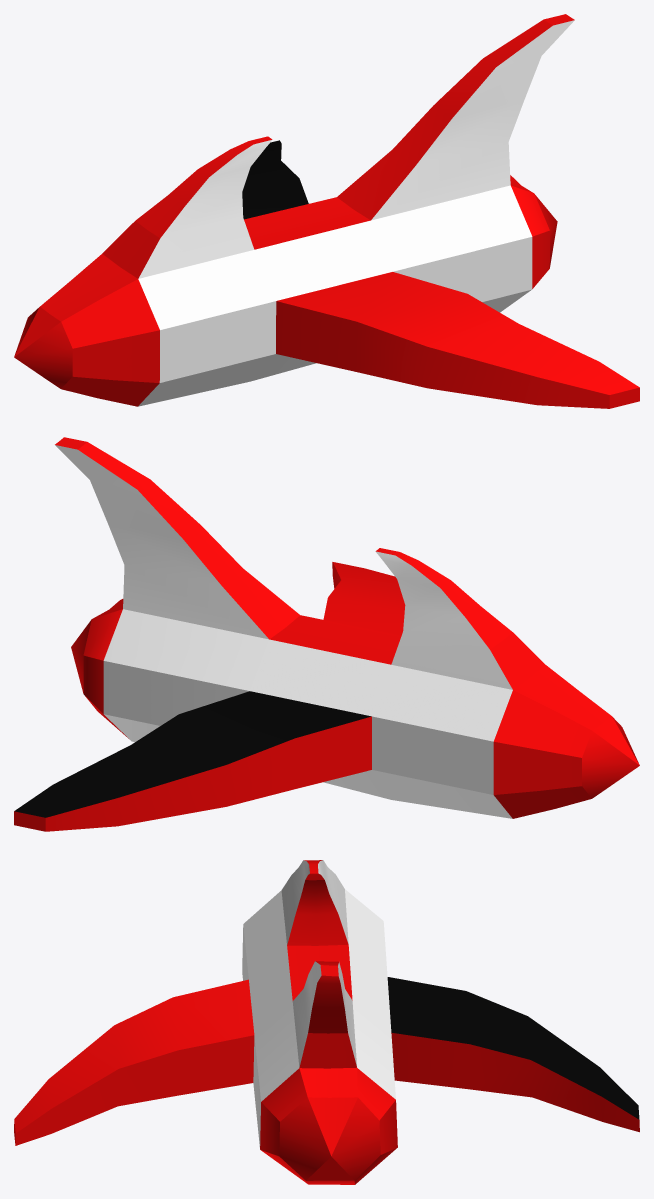
The model's file is airEnemy2Real.fbx.
The picture shows the model from 3 angles, top to bottom: view 1: azimuth 30°, elevation 25°; view 2: azimuth 150°, elevation 25°; view 3: azimuth 270°, elevation 25°; orthographic projection. The views are drawn at different scales.
Visible parts, largest first — view 1: pPlane10; view 2: pPlane10; view 3: pPlane10.
Part boxes in pixels (left/top/right/bottom): pPlane10: left=14, top=14, right=639, bottom=408; pPlane10: left=14, top=437, right=639, bottom=831; pPlane10: left=14, top=860, right=639, bottom=1184.
Bounding box in the file's own units: 11.05 × 5.01 × 11.46.
1 material, 1 textured.
